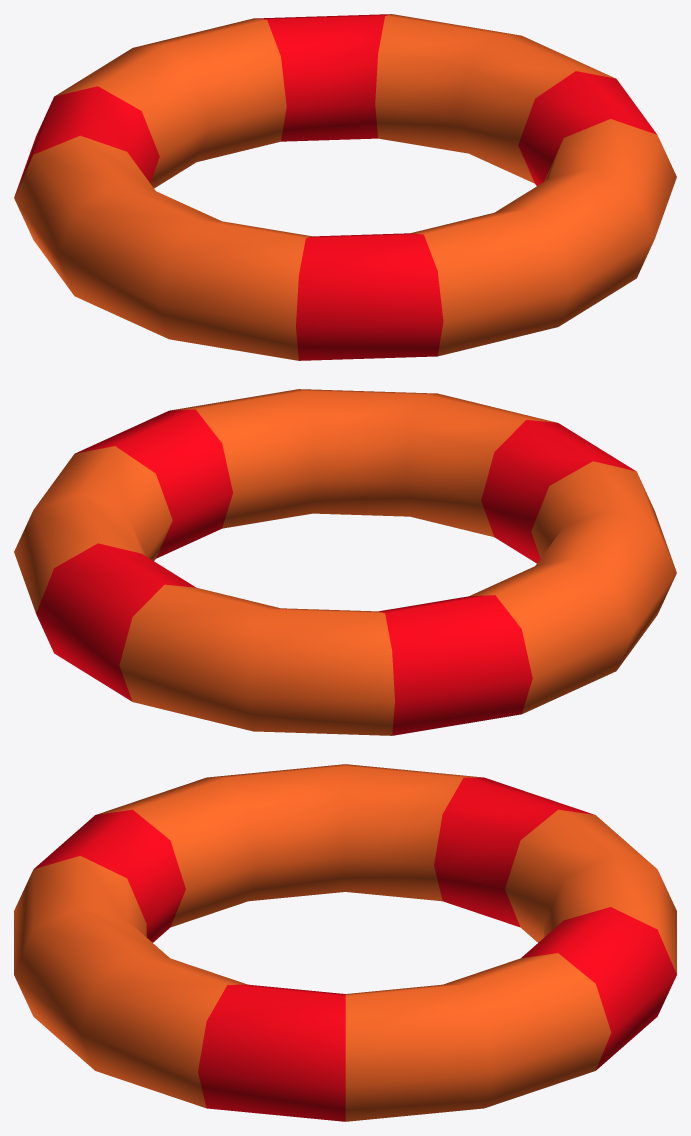
File: Floaty_SM.fbx
The picture shows the model from 3 angles, top to bottom: view 1: azimuth 30°, elevation 25°; view 2: azimuth 150°, elevation 25°; view 3: azimuth 270°, elevation 25°; orthographic projection. The views are drawn at different scales.
Parts seen in each view (by area): view 1: Floaty_SM.001; view 2: Floaty_SM.001; view 3: Floaty_SM.001.
Boxes of the visible parts, bbox=[...] form: Floaty_SM.001: bbox=[14, 14, 676, 360]; Floaty_SM.001: bbox=[14, 389, 676, 735]; Floaty_SM.001: bbox=[14, 764, 676, 1121].
Bounding box in the file's own units: 179 × 35.87 × 175.
Materials: 2 (2 with a texture image).
